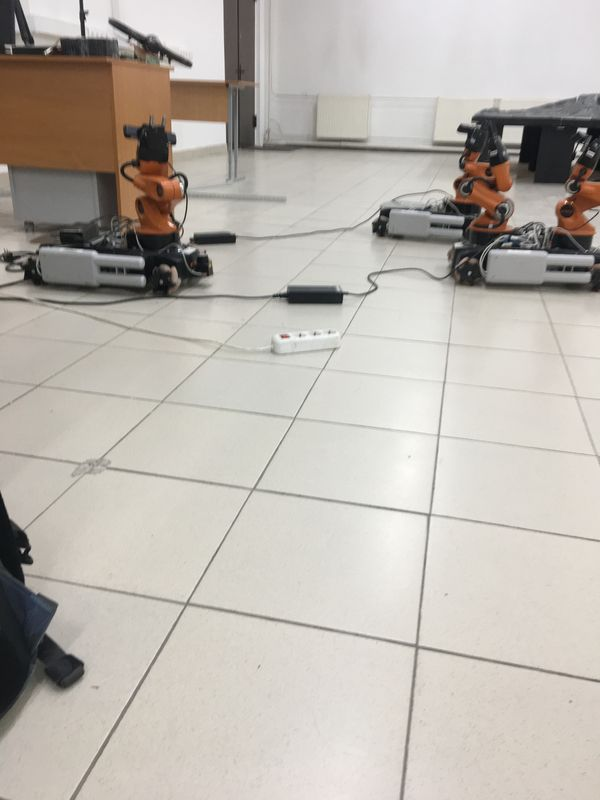socket: (269, 325, 343, 360)
